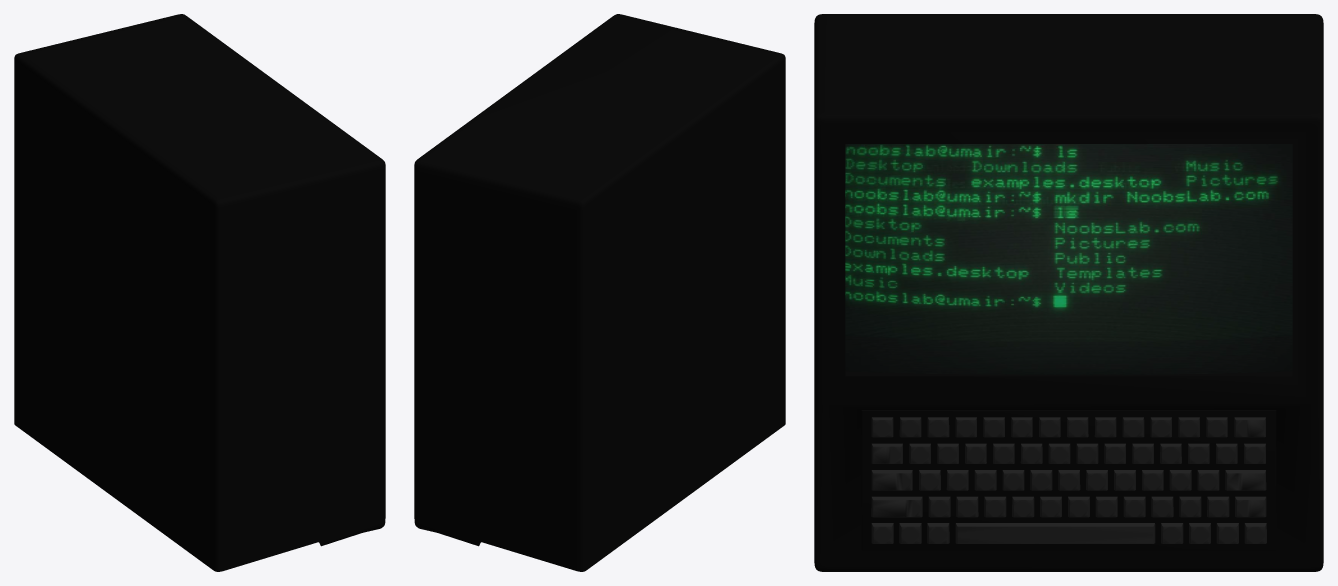
Rendered from LolzComputer2.fbx.
3 views of the same model, side by side, from view 1: azimuth 30°, elevation 25°; view 2: azimuth 150°, elevation 25°; view 3: azimuth 270°, elevation 25° (orthographic). The views are drawn at different scales.
Visible parts, largest first — view 1: Computer; view 2: Computer; view 3: Computer.
Part boxes in pixels (x1,y1,x2,y2): Computer: (14,14,385,571); Computer: (414,14,785,571); Computer: (814,14,1323,571).
Size of the model in its own units: 101 by 200 by 200.
